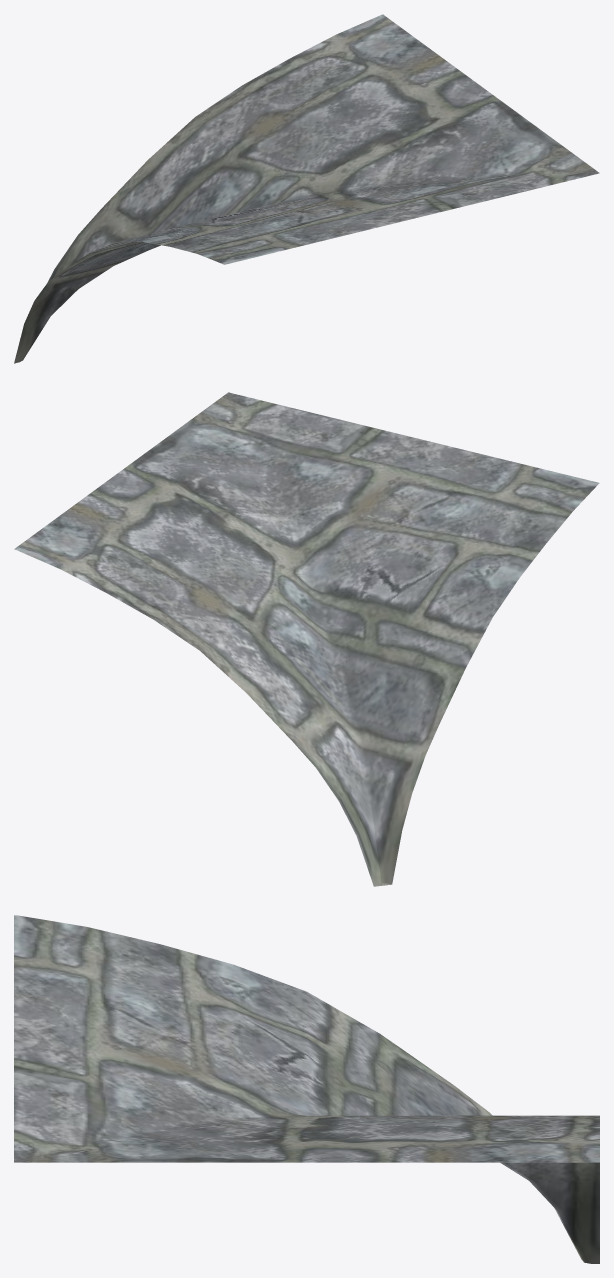
File: SM_Ceiling_Piece_B.glb
The picture shows the model from 3 angles, top to bottom: view 1: azimuth 30°, elevation 25°; view 2: azimuth 150°, elevation 25°; view 3: azimuth 270°, elevation 25°; orthographic projection. The views are drawn at different scales.
Parts seen in each view (by area): view 1: SM_Ceiling_Piece_B; view 2: SM_Ceiling_Piece_B; view 3: SM_Ceiling_Piece_B.
Boxes of the visible parts, left/top/right/bottom form: SM_Ceiling_Piece_B: left=14, top=14, right=599, bottom=363; SM_Ceiling_Piece_B: left=14, top=392, right=599, bottom=886; SM_Ceiling_Piece_B: left=14, top=915, right=599, bottom=1263.
Size of the model in its own units: 3 by 1.93 by 3.
1 material, 1 textured.
